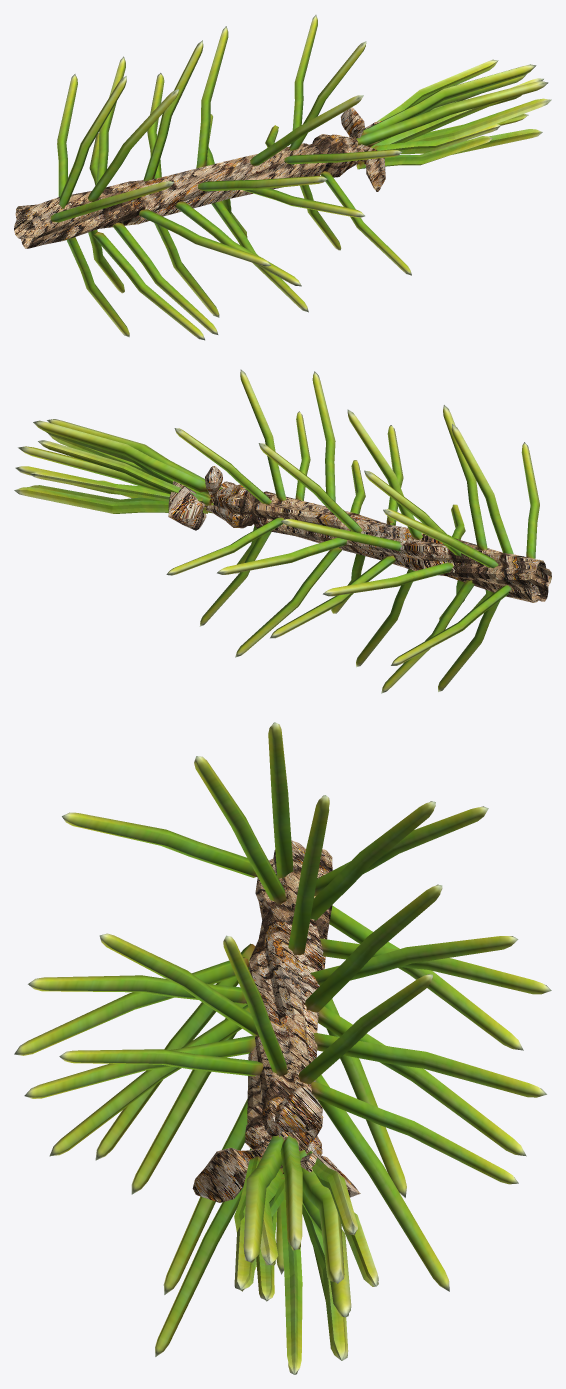
Rendered from chrismas.glb.
3 views of the same model, one above another, from view 1: azimuth 30°, elevation 25°; view 2: azimuth 150°, elevation 25°; view 3: azimuth 270°, elevation 25° (orthographic). The views are drawn at different scales.
Parts seen in each view (by area): view 1: Circle.001, Circle.038, Circle.003, Circle.030, Circle.020, Circle.025, Circle.039, Circle.017, Circle.011, Circle.023, Circle.024, Circle.012 (+22 smaller); view 2: Circle.001, Circle.003, Circle.040, Circle.042, Circle.009, Circle.037, Circle.025, Circle.028, Circle.021, Circle.011, Circle.015, Circle (+23 smaller); view 3: Circle.001, Circle.009, Circle, Circle.034, Circle.029, Circle.015, Circle.024, Circle.035, Circle.011, Circle.012, Circle.014, Circle.018 (+26 smaller).
Part boxes in pixels (x1,y1,x2,y2): Circle.001: (14, 107, 385, 248); Circle.038: (356, 81, 548, 145); Circle.003: (361, 64, 536, 135); Circle.030: (93, 232, 204, 340); Circle.020: (112, 222, 218, 334); Circle.025: (59, 76, 126, 208); Circle.039: (405, 98, 551, 142); Circle.017: (143, 40, 203, 181); Circle.011: (196, 26, 228, 168); Circle.023: (87, 89, 178, 201); Circle.024: (139, 209, 270, 266); Circle.012: (250, 95, 363, 165); Circle.001: (168, 466, 551, 602); Circle.003: (33, 420, 207, 492); Circle.040: (14, 487, 208, 513); Circle.042: (38, 440, 203, 502); Circle.009: (235, 547, 341, 657); Circle.037: (18, 446, 212, 505); Circle.025: (451, 424, 513, 554); Circle.028: (391, 585, 511, 665); Circle.021: (323, 562, 453, 596); Circle.011: (258, 443, 362, 533); Circle.015: (270, 555, 395, 638); Circle: (217, 537, 347, 574); Circle.001: (192, 840, 360, 1202); Circle.009: (315, 1074, 449, 1291); Circle: (313, 1033, 546, 1097); Circle.034: (311, 1082, 518, 1184); Circle.029: (62, 812, 257, 877); Circle.015: (318, 1006, 526, 1156); Circle.024: (14, 957, 249, 1055); Circle.035: (59, 1049, 263, 1076); Circle.011: (305, 884, 442, 1012); Circle.012: (99, 933, 259, 1036); Circle.014: (49, 1004, 250, 1156); Circle.018: (28, 975, 247, 1004).
Bounding box in the file's own units: 11.14 × 5.55 × 5.65.
2 materials, 2 textured.
